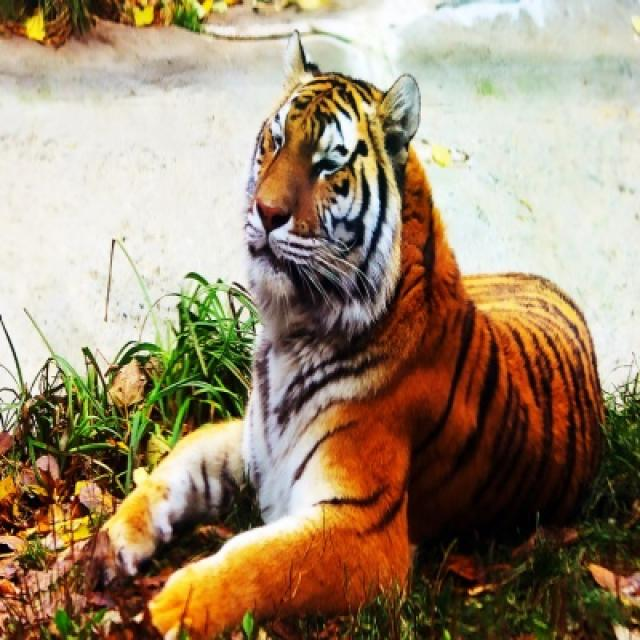Tiger: (85, 35, 602, 638)
